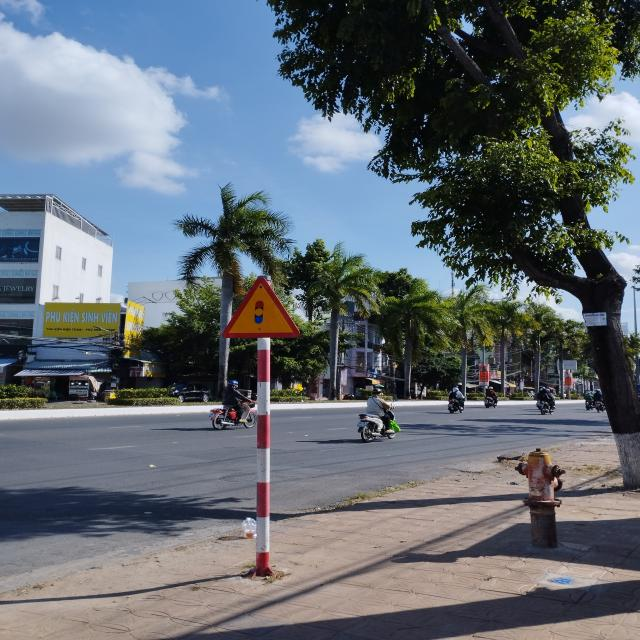Duong_Co_Go_Giam_Toc: (220, 276, 302, 338)
